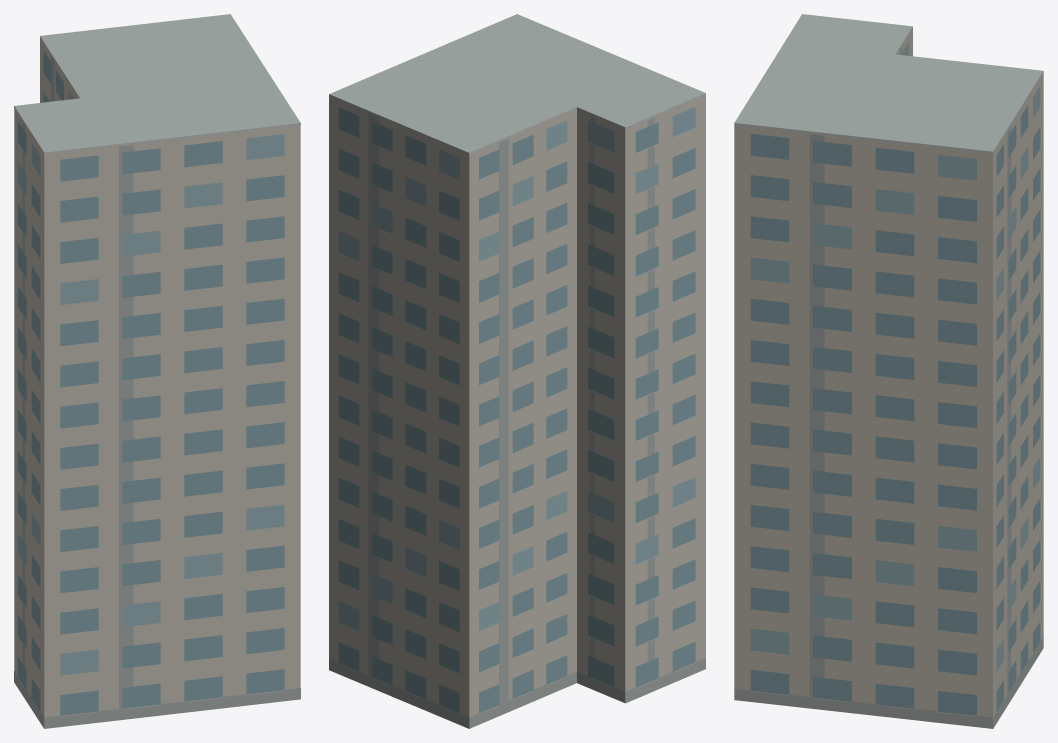
The model's file is residential-dfd23020-e9fd-41ce-b3e2-aaf25f2ff768.glb.
3 views of the same model, side by side, from view 1: azimuth 30°, elevation 25°; view 2: azimuth 150°, elevation 25°; view 3: azimuth 270°, elevation 25° (orthographic).
Parts seen in each view (by area): view 1: residential-dfd23020-e9fd-41ce-b3e2-aaf25f2ff768.tmp; view 2: residential-dfd23020-e9fd-41ce-b3e2-aaf25f2ff768.tmp; view 3: residential-dfd23020-e9fd-41ce-b3e2-aaf25f2ff768.tmp.
Boxes of the visible parts, x1,y1,x2,y2 form: residential-dfd23020-e9fd-41ce-b3e2-aaf25f2ff768.tmp: [14, 14, 300, 728]; residential-dfd23020-e9fd-41ce-b3e2-aaf25f2ff768.tmp: [329, 14, 705, 728]; residential-dfd23020-e9fd-41ce-b3e2-aaf25f2ff768.tmp: [734, 14, 1043, 728].
Bounding box in the file's own units: 25.58 × 50 × 24.29.
